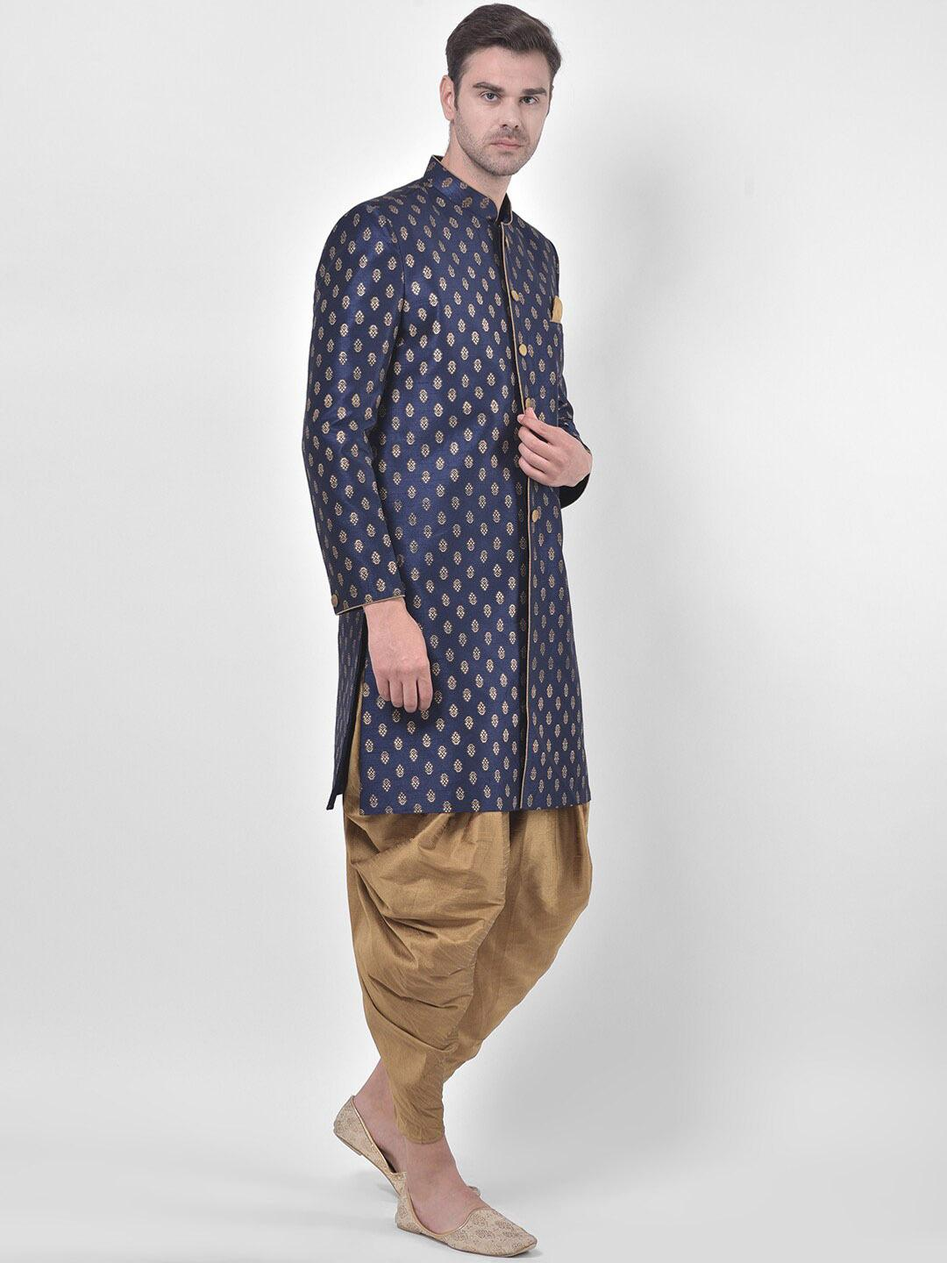Design Sherwani: (299, 155, 595, 820)
